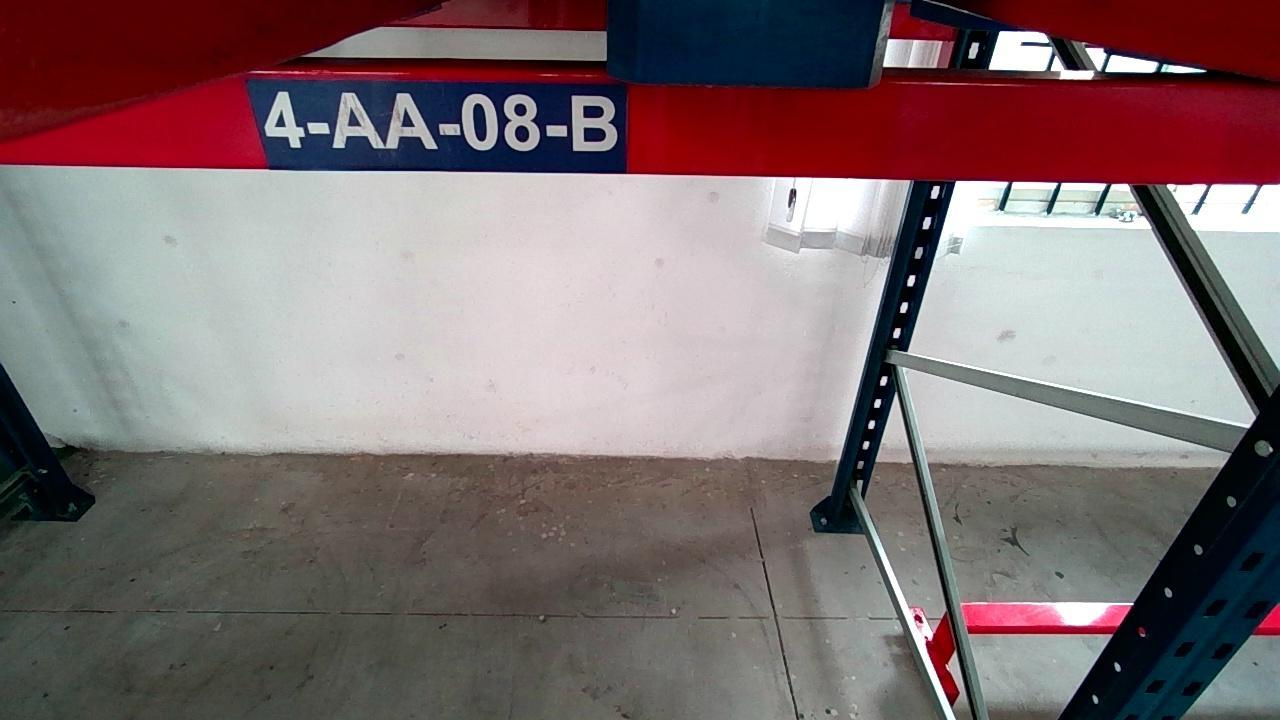h_rack: (5, 76, 1278, 183)
